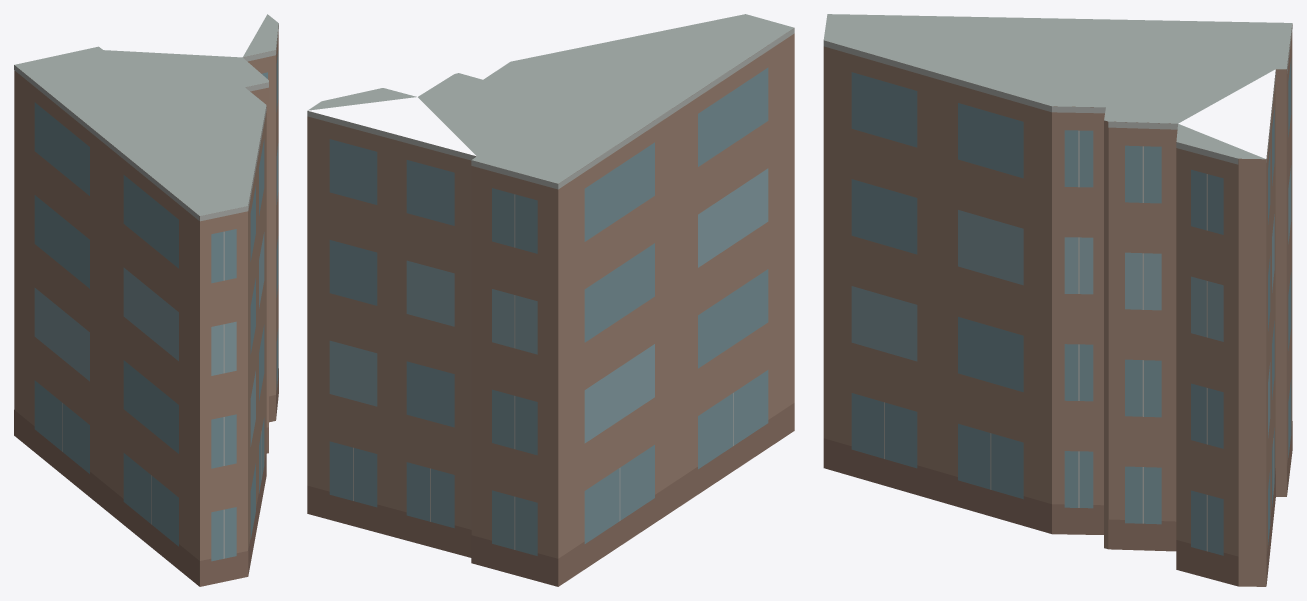
Rendered from survey-upis-32804978.glb.
3 renders of one model, left to right at view 1: azimuth 30°, elevation 25°; view 2: azimuth 150°, elevation 25°; view 3: azimuth 270°, elevation 25°, orthographic. The views are drawn at different scales.
Parts seen in each view (by area): view 1: survey-upis-32804978.tmp; view 2: survey-upis-32804978.tmp; view 3: survey-upis-32804978.tmp.
Part boxes in pixels (x1=…): survey-upis-32804978.tmp: x1=14, y1=14, x2=278, y2=586; survey-upis-32804978.tmp: x1=307, y1=14, x2=794, y2=586; survey-upis-32804978.tmp: x1=823, y1=14, x2=1292, y2=586.
Bounding box in the file's own units: 12.6 × 17.3 × 17.19.
